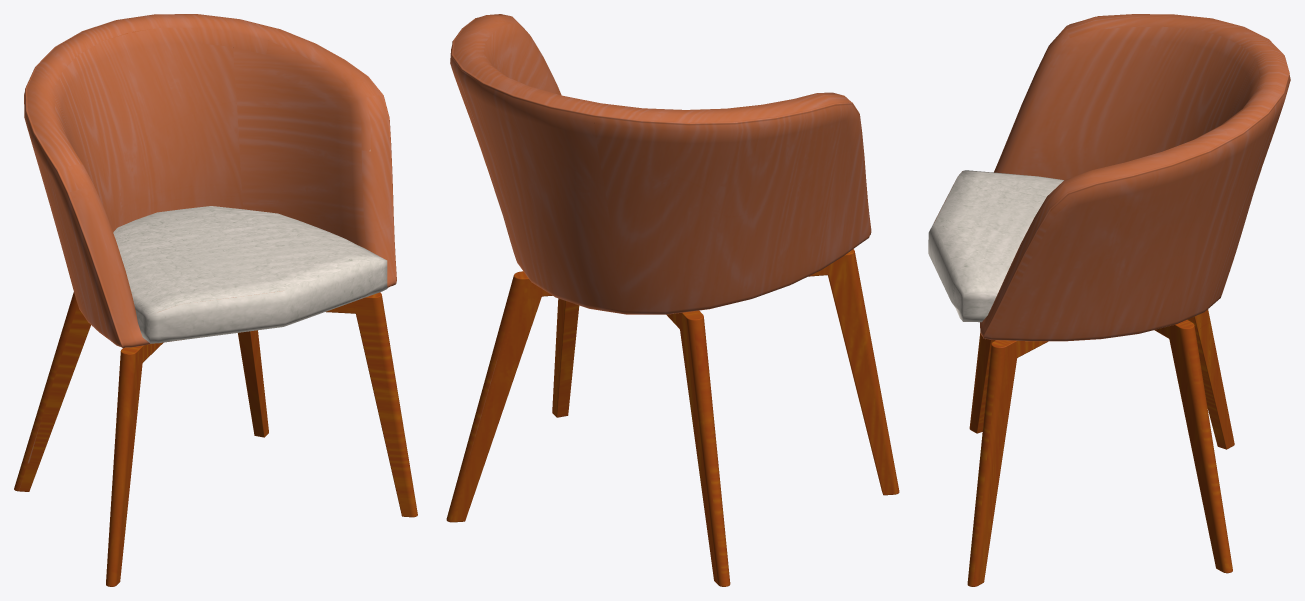
3 views of the same model, side by side, from view 1: azimuth 30°, elevation 25°; view 2: azimuth 150°, elevation 25°; view 3: azimuth 270°, elevation 25° (orthographic). The views are drawn at different scales.
Visible parts, largest first — view 1: Plane010.010_Mesh.001; view 2: Plane010.010_Mesh.001; view 3: Plane010.010_Mesh.001.
Part boxes in pixels (x1,y1,x2,y2): Plane010.010_Mesh.001: (14,14,417,586); Plane010.010_Mesh.001: (446,14,899,586); Plane010.010_Mesh.001: (928,14,1290,586).
Size of the model in its own units: 0.3524 by 0.4341 by 0.3233.
Materials: 1 (1 with a texture image).
